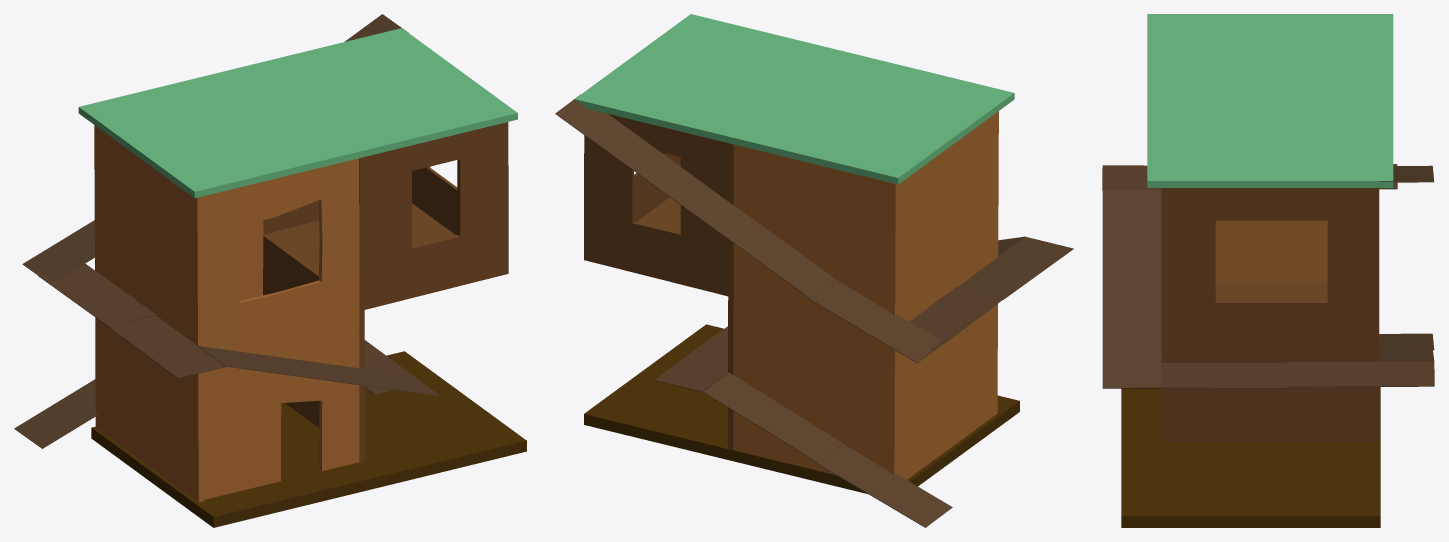
Rendered from HouseL.glb.
The picture shows the model from 3 angles, left to right: view 1: azimuth 30°, elevation 25°; view 2: azimuth 150°, elevation 25°; view 3: azimuth 270°, elevation 25°; orthographic projection. The views are drawn at different scales.
Visible parts, largest first — view 1: Cube.001, Cube.009, Cube.002, Cube.003, Cube, Cube.010, Cube.017, Cube.007, Cube.011, Cube.013, Cube.019, Cube.004 (+2 smaller); view 2: Cube.001, Cube.004, Cube.002, Cube.003, Cube, Cube.018, Cube.012, Cube.013, Cube.019, Cube.017, Cube.011, Cube.005 (+1 smaller); view 3: Cube.001, Cube.003, Cube, Cube.007, Cube.010, Cube.002, Cube.005, Cube.006, Cube.017, Cube.013, Cube.012, Cube.019.
Part boxes in pixels (x1,y1,x2,y2): Cube.001: (78, 28, 517, 198); Cube.009: (202, 158, 359, 499); Cube.002: (94, 125, 203, 502); Cube.003: (263, 122, 508, 311); Cube: (91, 351, 526, 527); Cube.010: (198, 346, 439, 396); Cube.017: (109, 315, 225, 378); Cube.007: (263, 236, 364, 462); Cube.011: (38, 263, 155, 326); Cube.013: (14, 379, 97, 448); Cube.019: (22, 220, 96, 282); Cube.004: (239, 220, 263, 300); Cube.001: (575, 14, 1014, 184); Cube.004: (733, 144, 890, 473); Cube.002: (889, 111, 998, 479); Cube.003: (584, 114, 733, 297); Cube: (584, 324, 1019, 493); Cube.018: (555, 94, 834, 297); Cube.012: (703, 372, 843, 462); Cube.013: (810, 444, 952, 527); Cube.019: (802, 279, 940, 362); Cube.017: (958, 237, 1073, 299); Cube.011: (909, 287, 1004, 349); Cube.005: (654, 328, 728, 391); Cube.001: (1147, 14, 1393, 187); Cube.003: (1161, 188, 1378, 354); Cube: (1121, 359, 1380, 527); Cube.007: (1161, 354, 1378, 442); Cube.010: (1102, 190, 1160, 388); Cube.002: (1161, 188, 1379, 359); Cube.005: (1286, 361, 1434, 387); Cube.006: (1139, 363, 1287, 388); Cube.017: (1102, 165, 1160, 190); Cube.013: (1379, 333, 1434, 350); Cube.012: (1379, 348, 1434, 361); Cube.019: (1393, 165, 1433, 182).
Bounding box in the file's own units: 12.15 × 10.33 × 8.93.
